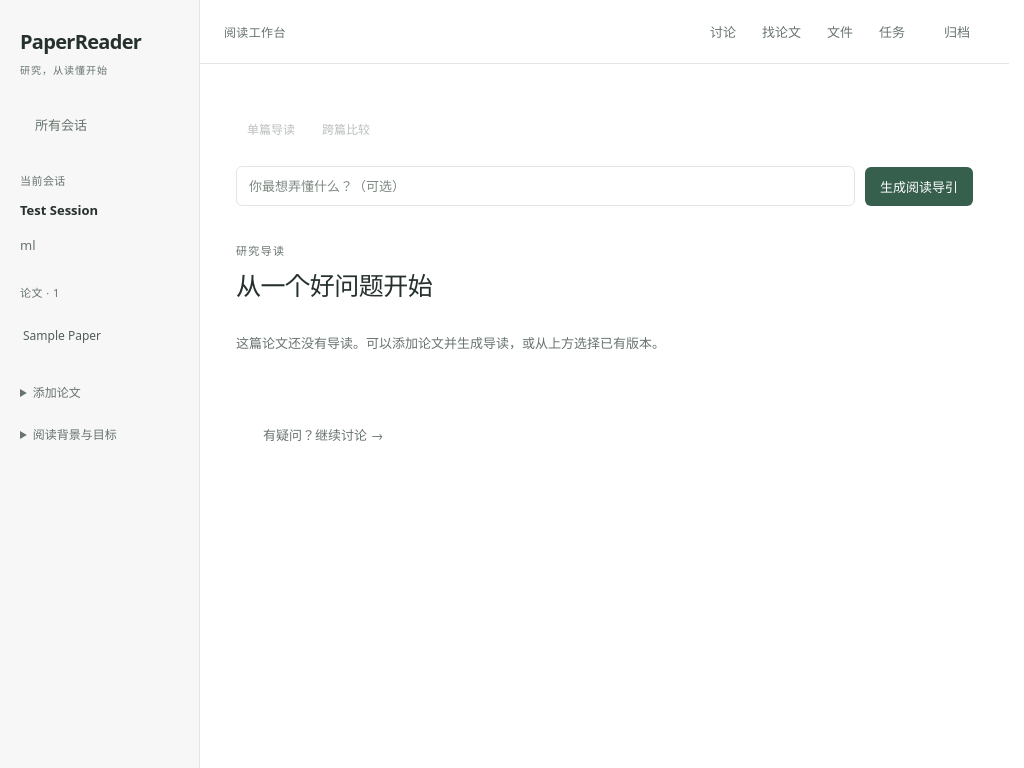
WorkspaceScreen › loads the first session into the workspace
The width and height of the screenshot is (1024, 768).
Expected: the text "Test Session" is shown, left=20, top=201, right=98, bottom=219
Expected: the button "生成阅读导引" is shown, left=865, top=166, right=973, bottom=206
Click the button "文件": (840, 32) left=815, top=13, right=865, bottom=50
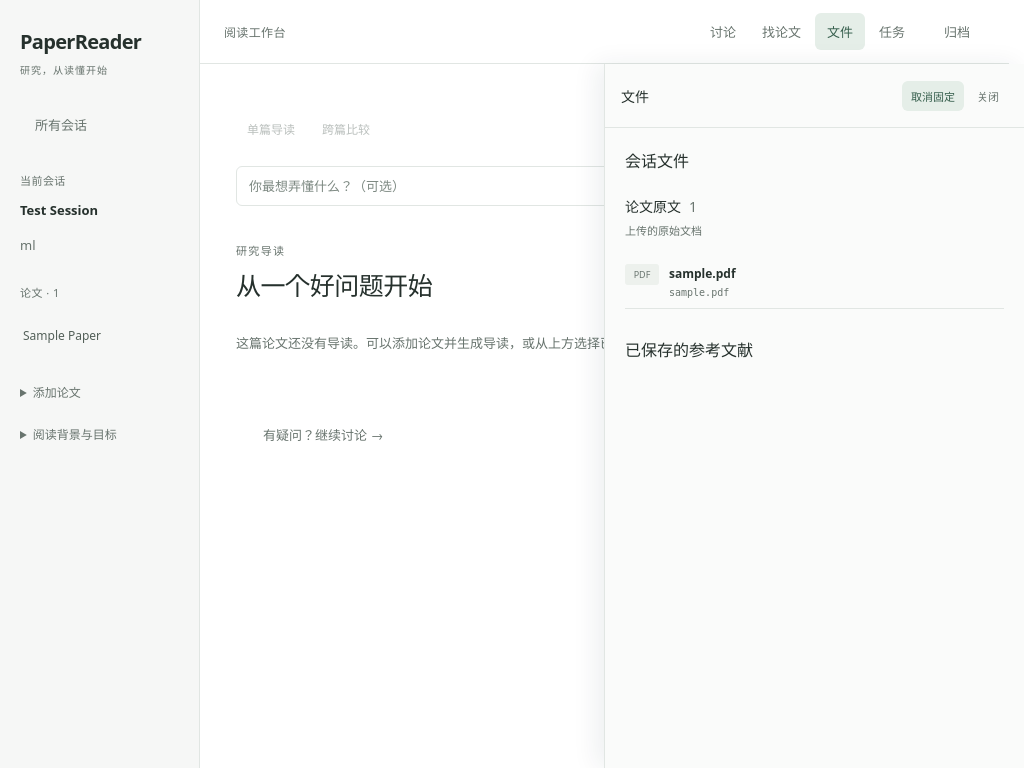
Now the heading "会话文件" is shown, box left=625, top=150, right=689, bottom=172
